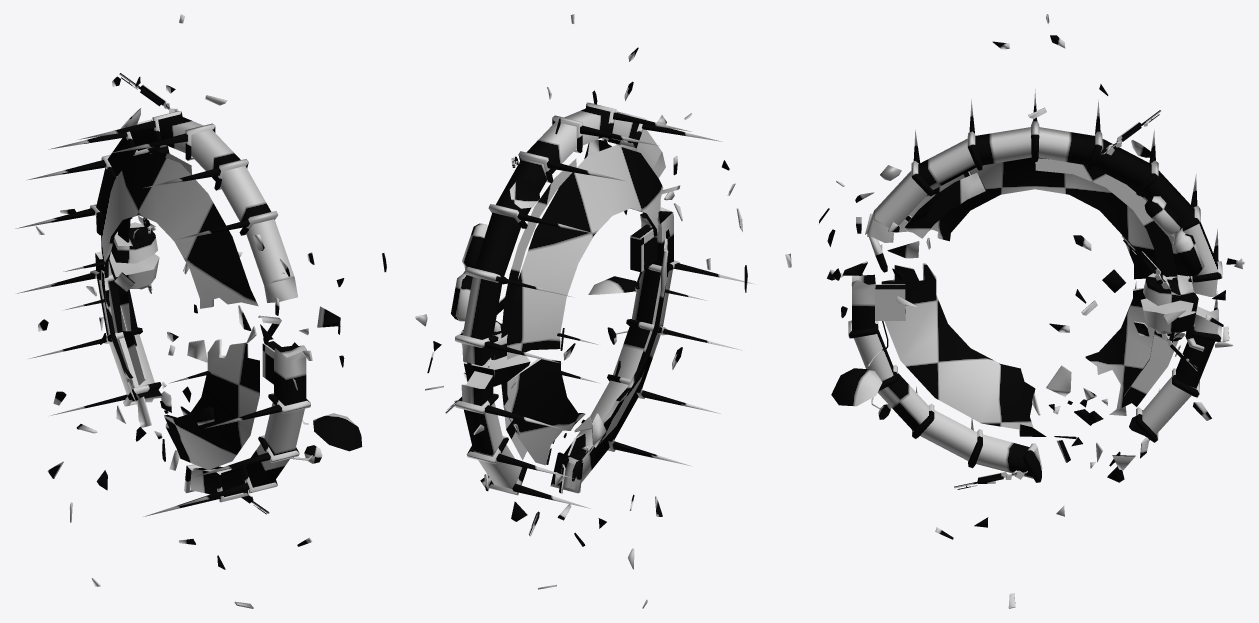
The model's file is jumpgate_crushed.obj.
The picture shows the model from 3 angles, left to right: view 1: azimuth 30°, elevation 25°; view 2: azimuth 150°, elevation 25°; view 3: azimuth 270°, elevation 25°; orthographic projection. The views are drawn at different scales.
Visible parts, largest first — view 1: jumpgate-crushed, jumpgate-crushed_animated; view 2: jumpgate-crushed, jumpgate-crushed_animated; view 3: jumpgate-crushed, jumpgate-crushed_animated.
Boxes of the visible parts, x1,y1,x2,y2 form: jumpgate-crushed: (15,73,362,516); jumpgate-crushed_animated: (36,14,386,608); jumpgate-crushed: (445,102,754,508); jumpgate-crushed_animated: (415,14,747,608); jumpgate-crushed: (831,89,1222,489); jumpgate-crushed_animated: (785,14,1244,608).
Bounding box in the file's own units: 280 × 744 × 544.
Materials: 2 (2 with a texture image).
